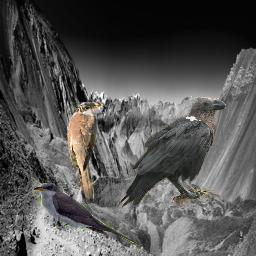Crow: (117, 97, 226, 208)
Cuckoo: (32, 183, 139, 248), (67, 102, 104, 204)
